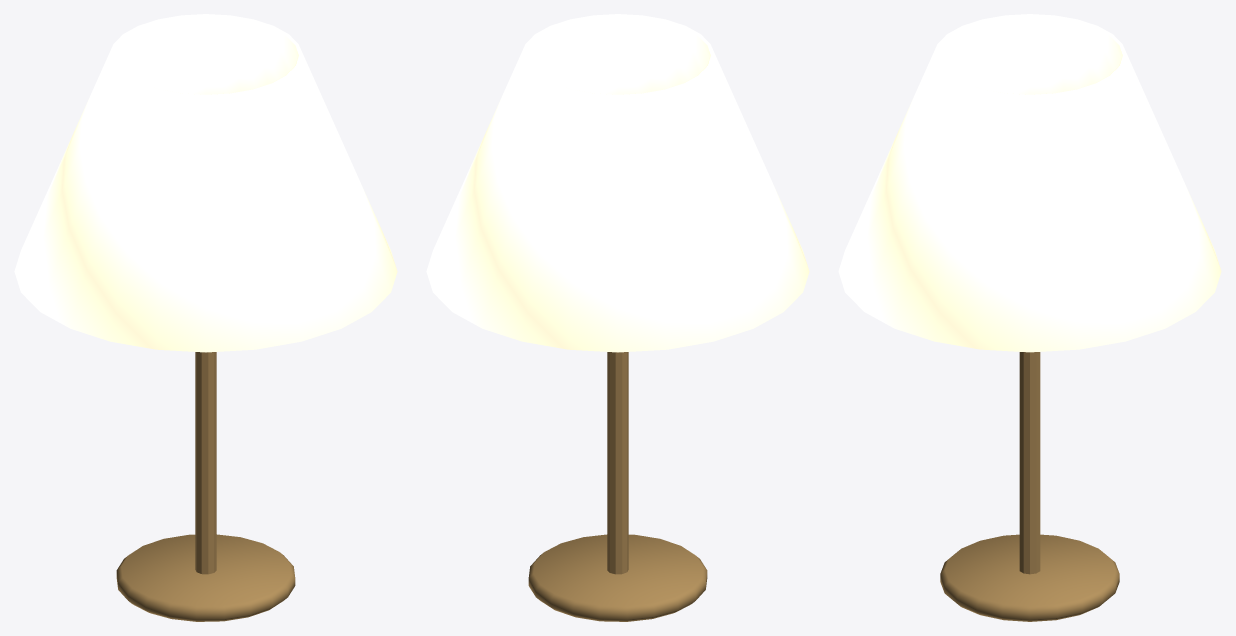
The model's file is i_tlamp_1.glb.
The picture shows the model from 3 angles, left to right: view 1: azimuth 30°, elevation 25°; view 2: azimuth 150°, elevation 25°; view 3: azimuth 270°, elevation 25°; orthographic projection.
Visible parts, largest first — view 1: o.002, o, o.001; view 2: o.002, o, o.001; view 3: o.002, o, o.001.
Part boxes in pixels (left/top/right/bottom): o.002: left=14, top=14, right=397, bottom=352; o: left=116, top=534, right=295, bottom=621; o.001: left=195, top=352, right=216, bottom=574; o.002: left=426, top=14, right=809, bottom=352; o: left=528, top=534, right=707, bottom=621; o.001: left=607, top=352, right=628, bottom=574; o.002: left=838, top=14, right=1221, bottom=352; o: left=940, top=534, right=1119, bottom=621; o.001: left=1019, top=352, right=1040, bottom=574.
Size of the model in its own units: 0.32 by 0.49 by 0.32.
